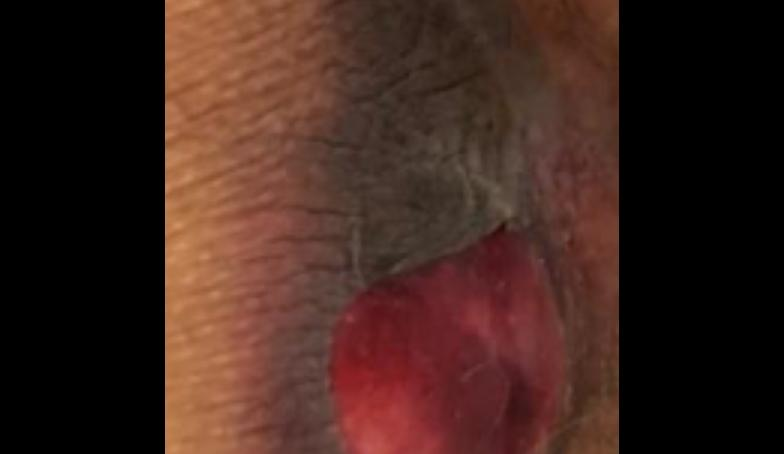Stage2: (318, 143, 593, 454)
